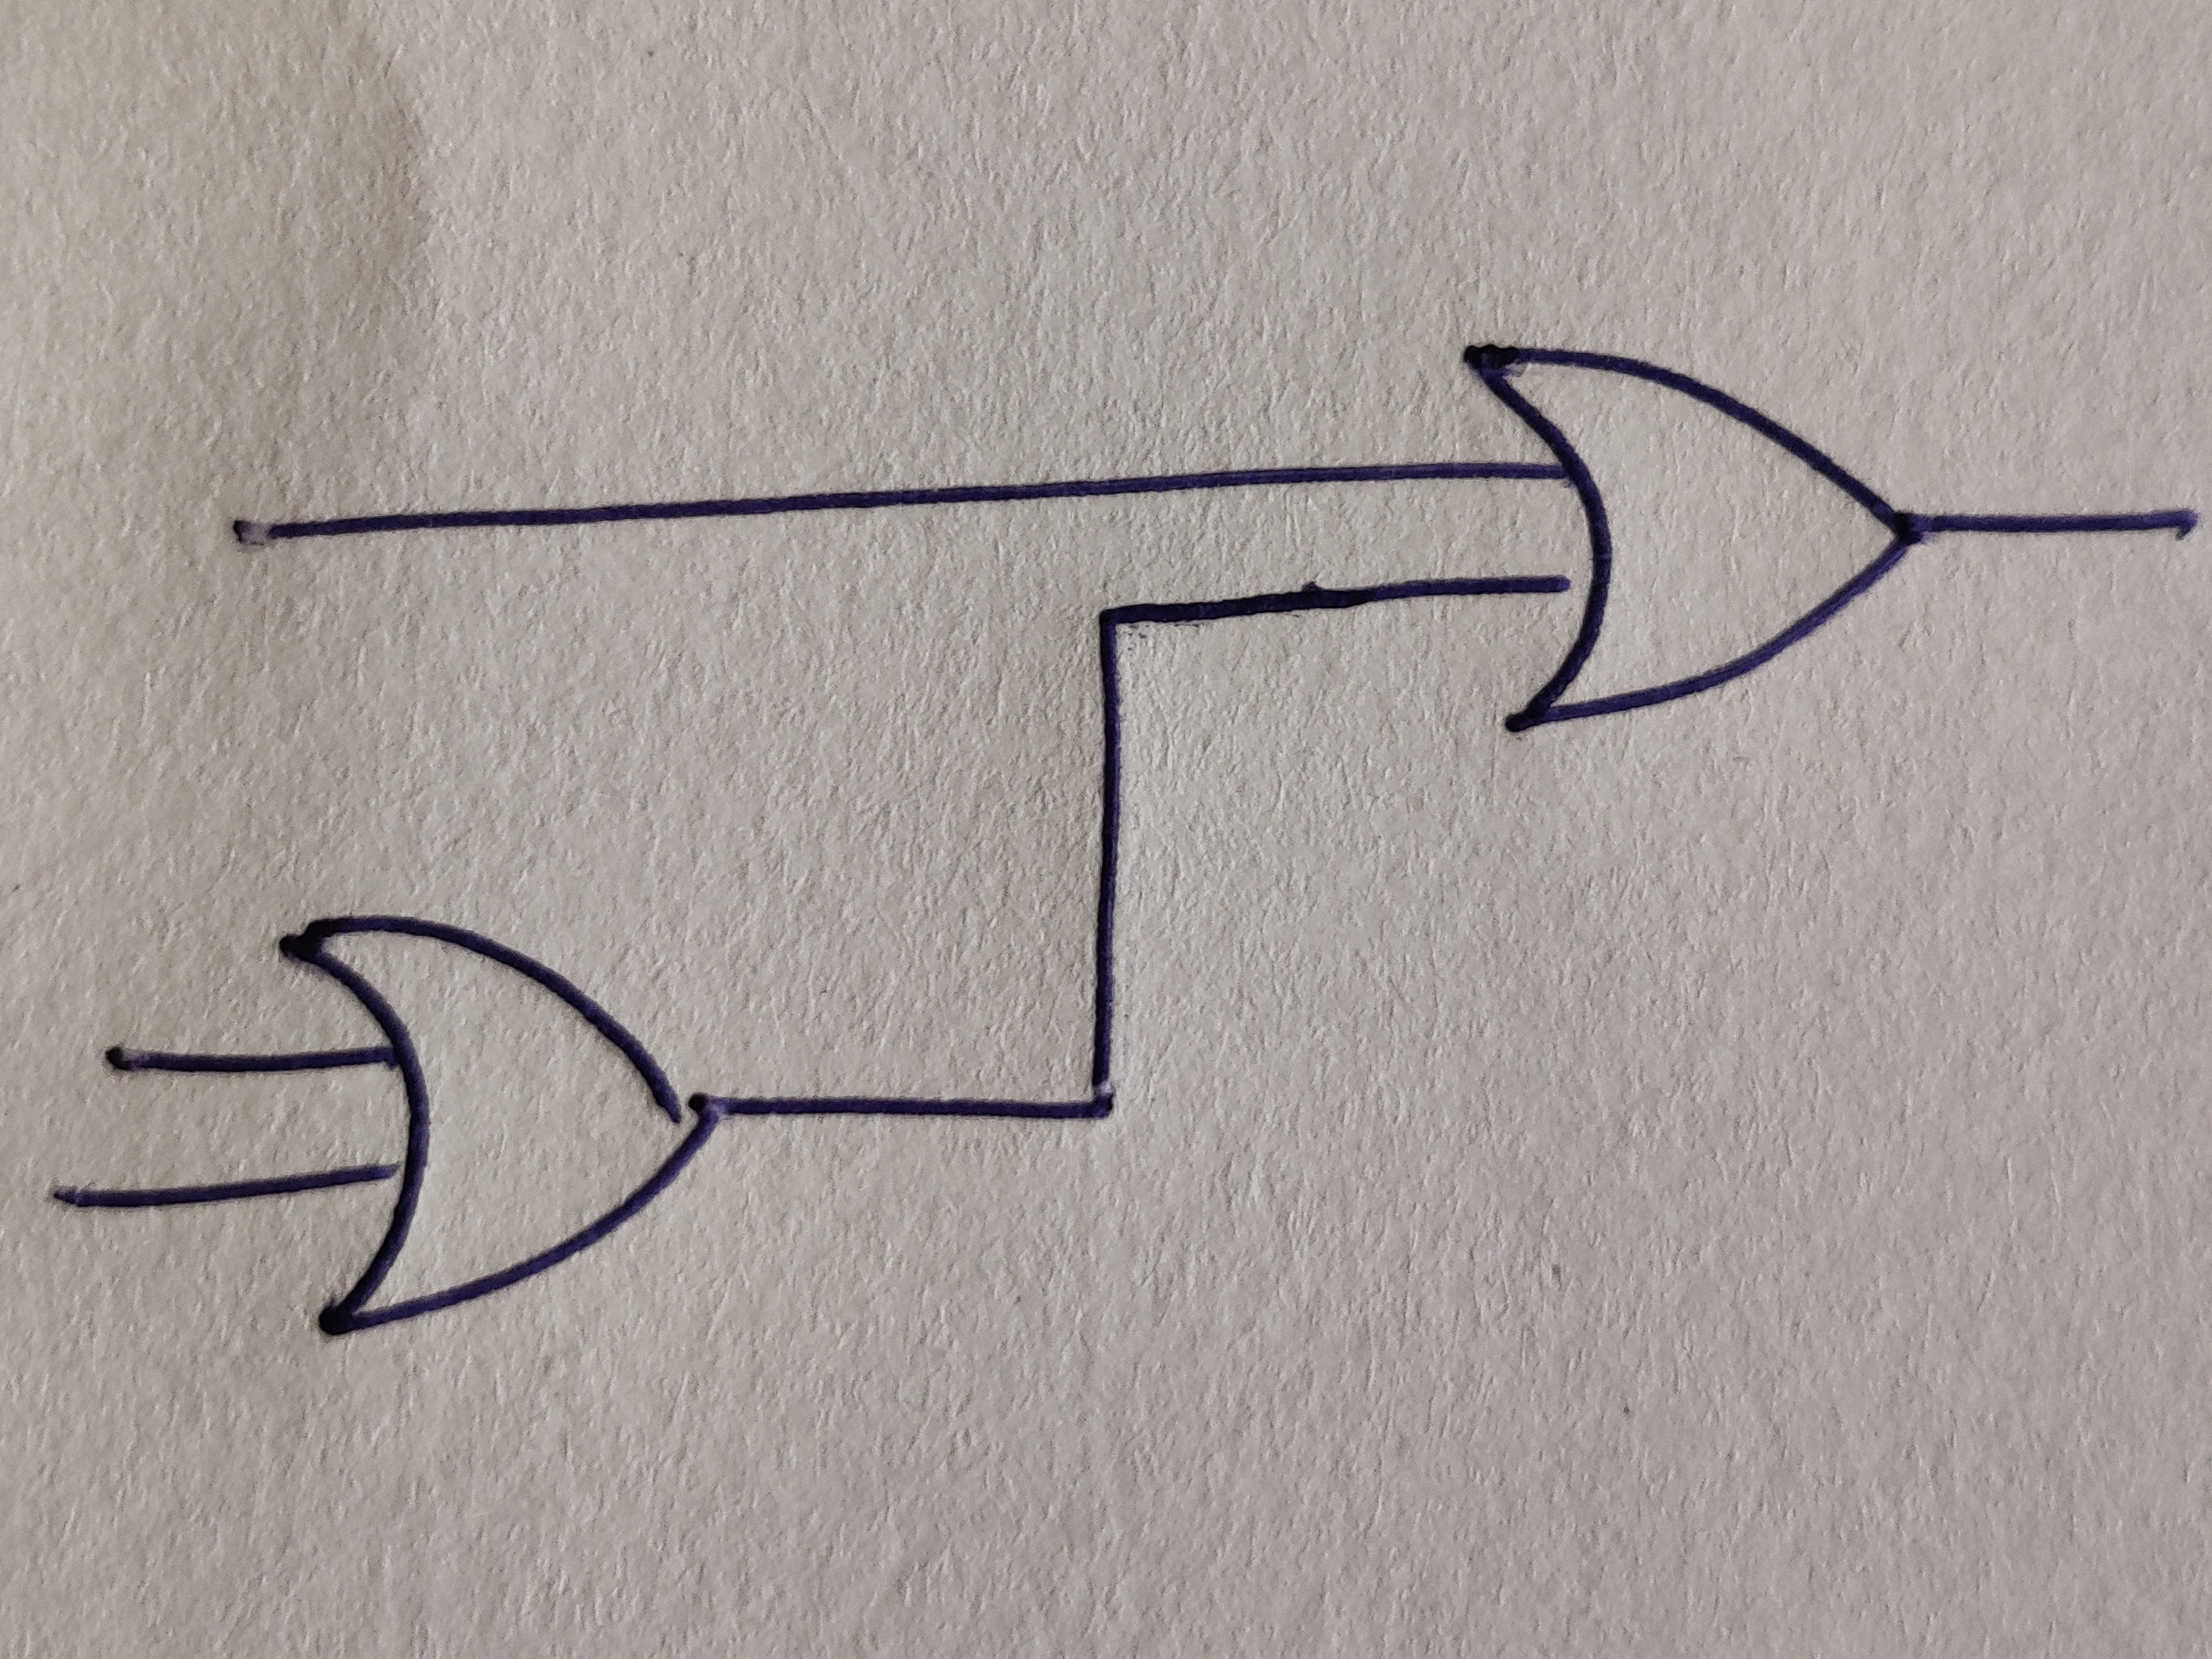or: (280, 918, 719, 1333), (1463, 345, 1926, 732)
